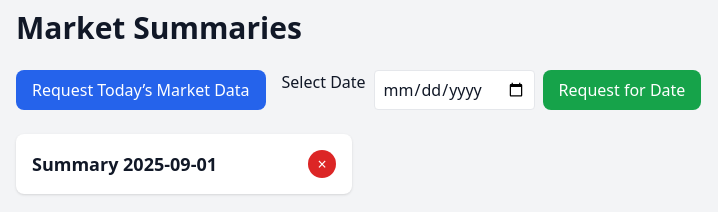
it: DatesPage › deletes a summary
The width and height of the screenshot is (718, 212).
Expected: the link "Summary 2025-09-01" is shown, [32,150,217,178]
Click the button titled "Delete Summary": (322, 164) [308,150,336,178]
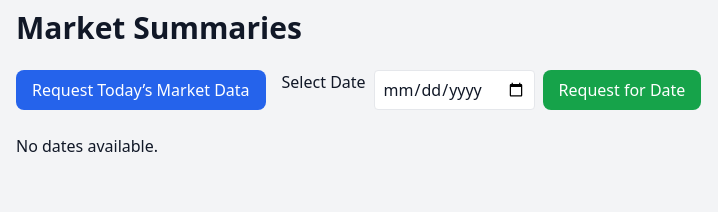
Result: the link "Summary 2025-09-01" is gone
